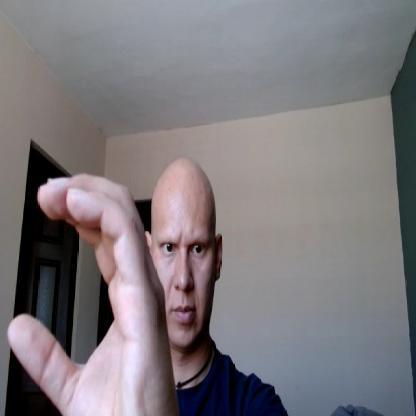C: (7, 172, 176, 415)
